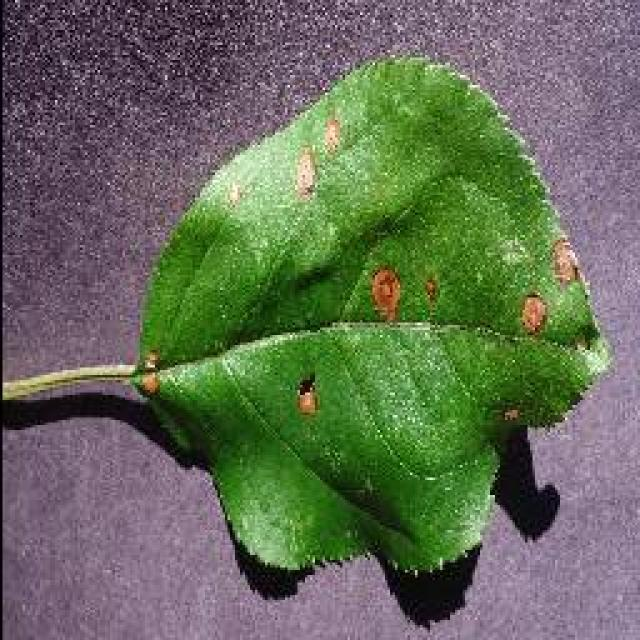Apple___Black_rot: (125, 49, 613, 578)
